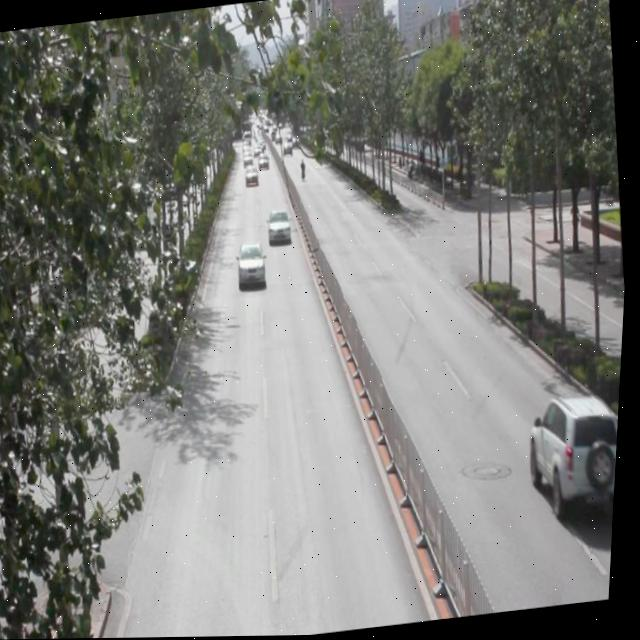car: (523, 389, 624, 530), (236, 239, 269, 290), (267, 208, 294, 244), (244, 164, 261, 188)
